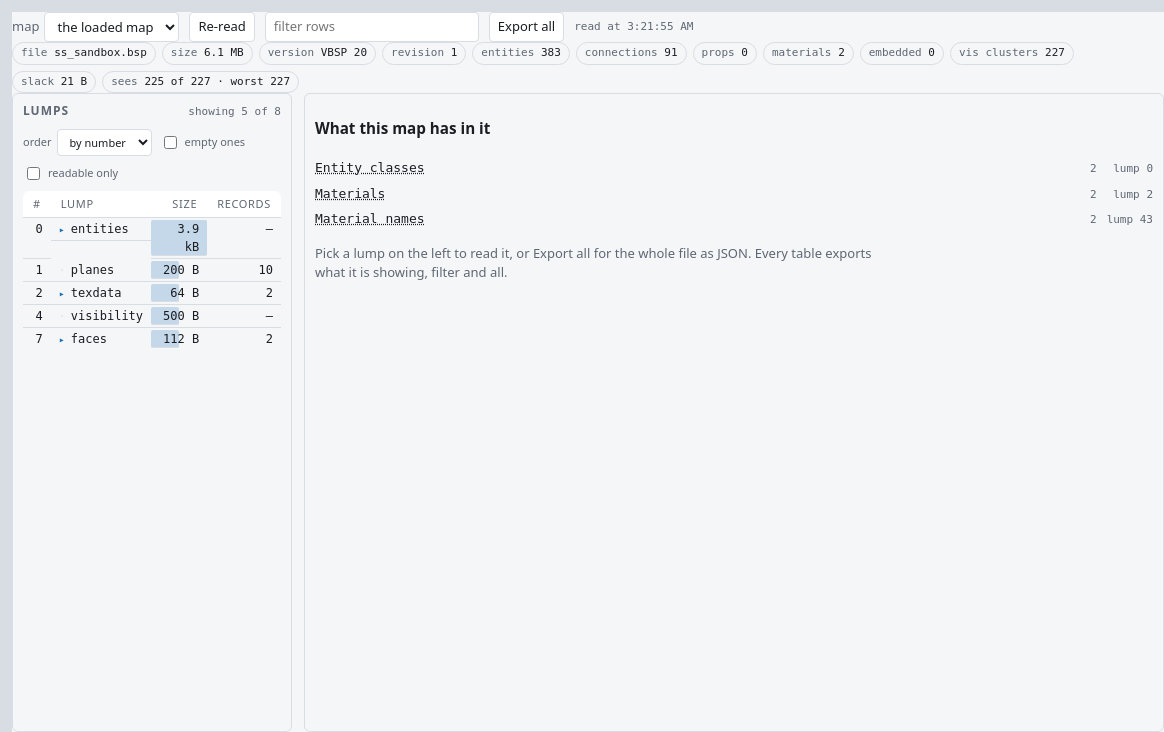
Test case: reading a big lump › asks for it when it is opened, and shows what came back
The image size is (1164, 732).
Check: the text "ss_sandbox.bsp" is shown, box [54,46,147,59]
What coordinates should you click on to do the following:
click the row "7 faces 112 B 2"
I would click on:
 (152, 339)
Its box is [23,328,281,350].
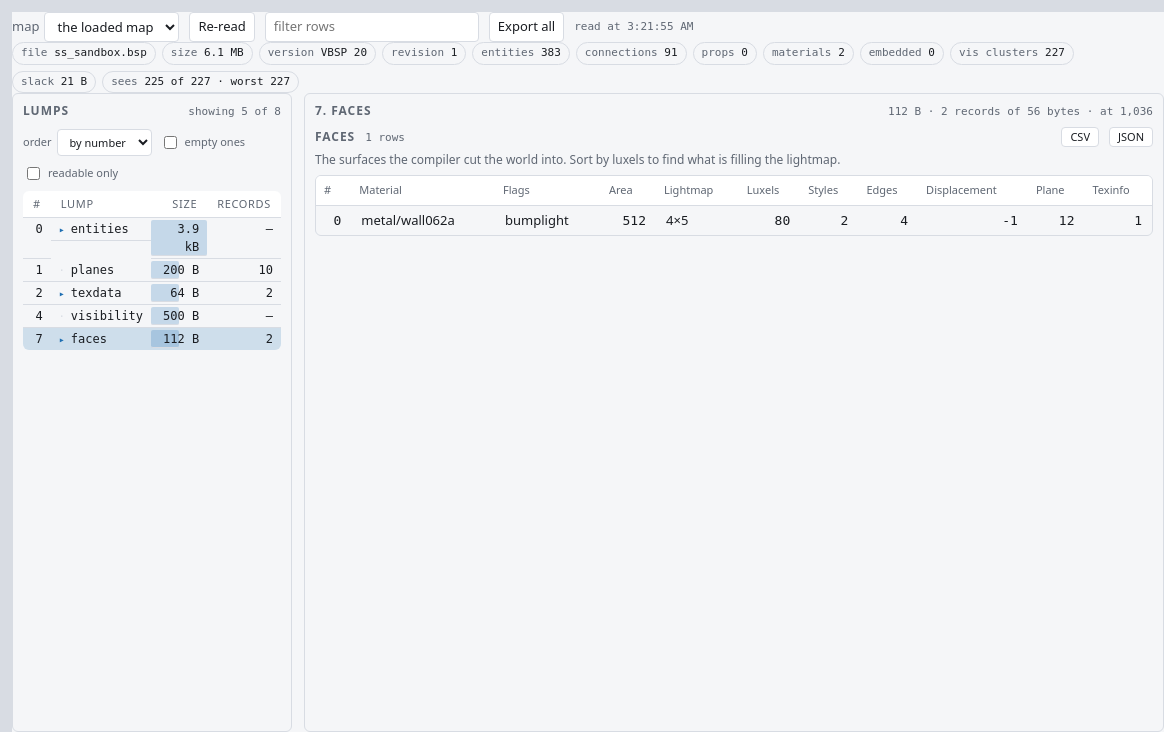
Check: the text "metal/wall062a" is shown, box [351,205,495,235]
